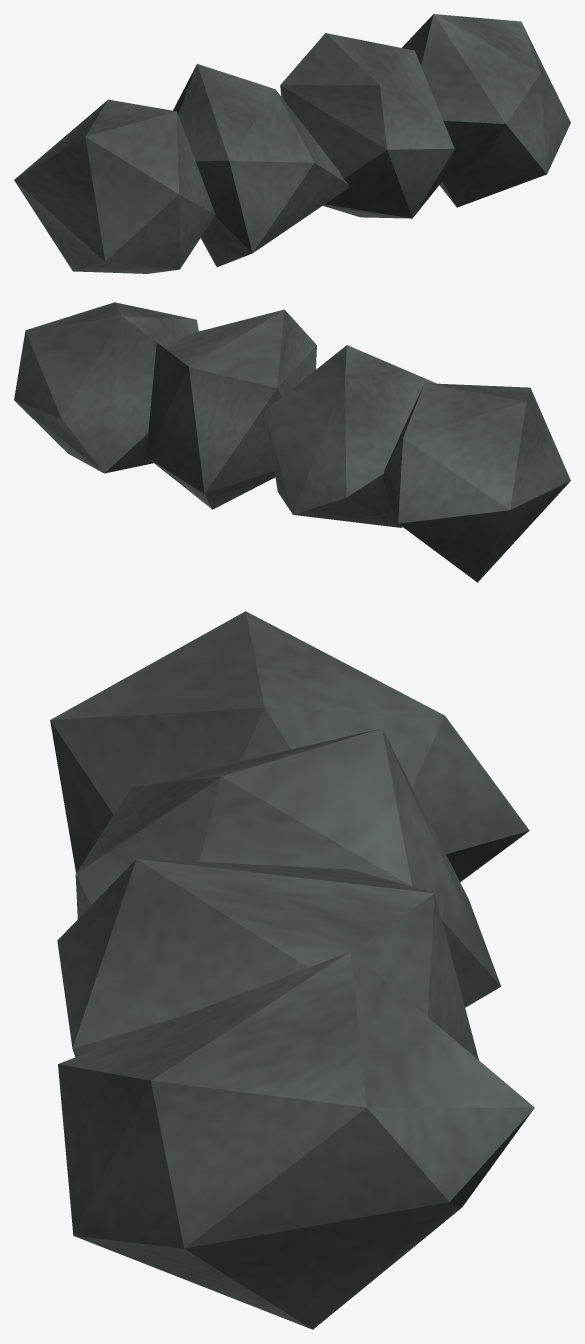
The model's file is harbor.breakwater.lod2.glb.
3 renders of one model, top to bottom at view 1: azimuth 30°, elevation 25°; view 2: azimuth 150°, elevation 25°; view 3: azimuth 270°, elevation 25°, orthographic. The views are drawn at different scales.
Visible parts, largest first — view 1: Block, Block.002, Block.003, Block.001; view 2: Block, Block.002, Block.001, Block.003; view 3: Block.003, Block, Block.002, Block.001.
Part boxes in pixels (x1,y1,x2,y2): Block: (14, 99, 215, 273); Block.002: (280, 33, 454, 218); Block.003: (402, 14, 570, 207); Block.001: (173, 64, 349, 267); Block: (382, 383, 570, 582); Block.002: (146, 309, 316, 509); Block.001: (265, 345, 436, 527); Block.003: (14, 302, 198, 473); Block.003: (58, 952, 534, 1329); Block: (50, 611, 529, 882); Block.002: (57, 859, 478, 1059); Block.001: (75, 728, 500, 1007).
Bounding box in the file's own units: 7.5 × 2.56 × 3.16.
1 material, 1 textured.
